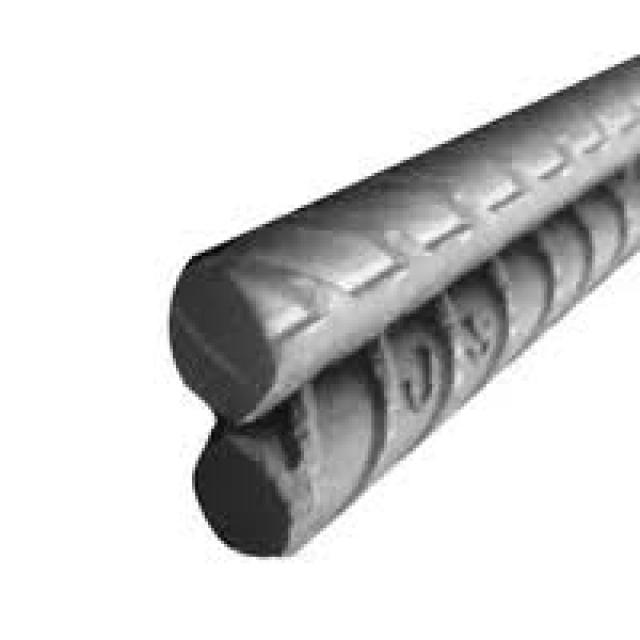Rebar: (150, 254, 283, 429), (176, 406, 303, 562)
